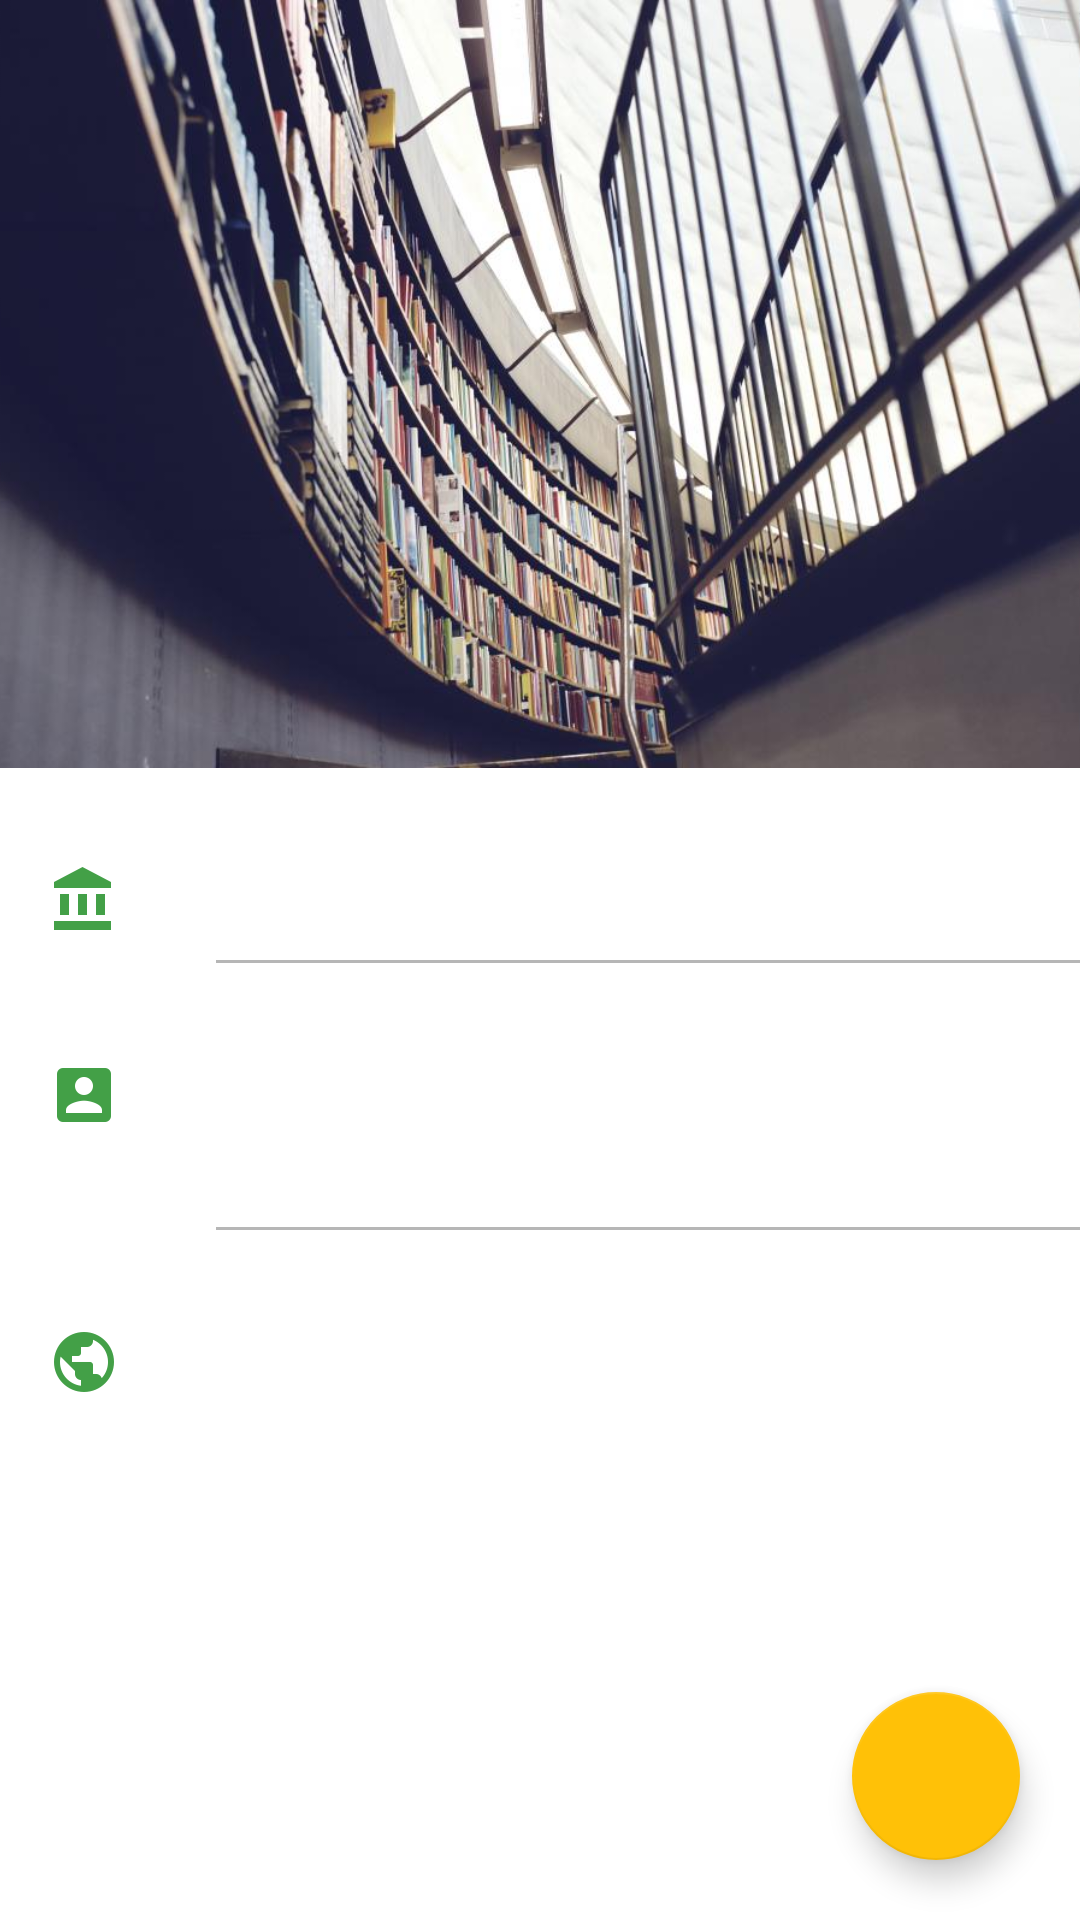

Icon bounding boxes for this 1080 × 1920 phone screenshot, format {"left": x1, "top": y1, "right": x2, "bottom": y2}:
account balance: {"left": 54, "top": 867, "right": 111, "bottom": 930}
account box: {"left": 57, "top": 1068, "right": 111, "bottom": 1122}
public: {"left": 54, "top": 1332, "right": 114, "bottom": 1392}
